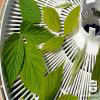Raspberry leaf: (17, 43, 45, 94), (2, 32, 24, 89), (18, 18, 55, 45), (64, 4, 81, 36), (41, 6, 61, 33), (40, 35, 64, 51)
